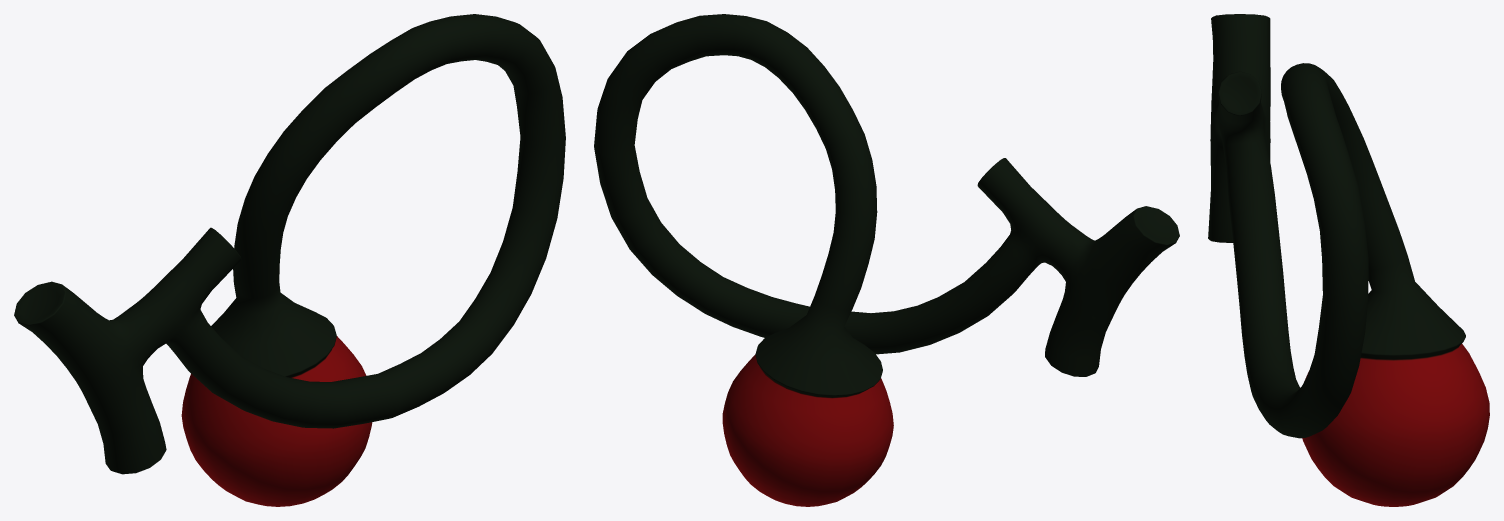
Rendered from cheri_berry_low.fbx.
3 views of the same model, side by side, from view 1: azimuth 30°, elevation 25°; view 2: azimuth 150°, elevation 25°; view 3: azimuth 270°, elevation 25° (orthographic). The views are drawn at different scales.
Parts seen in each view (by area): view 1: cheri_berry_low; view 2: cheri_berry_low; view 3: cheri_berry_low.
Part boxes in pixels (x1,y1,x2,y2): cheri_berry_low: [14, 14, 565, 506]; cheri_berry_low: [594, 14, 1179, 506]; cheri_berry_low: [1208, 14, 1489, 506].
Size of the model in its own units: 8.36 by 6.39 by 3.42.
